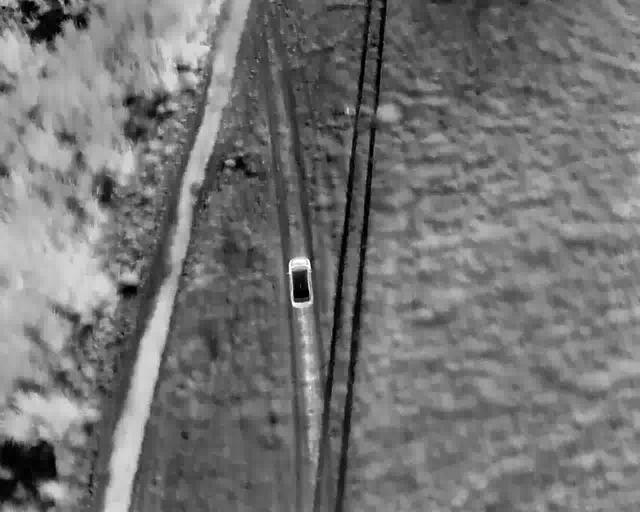car: (284, 207, 311, 253)
